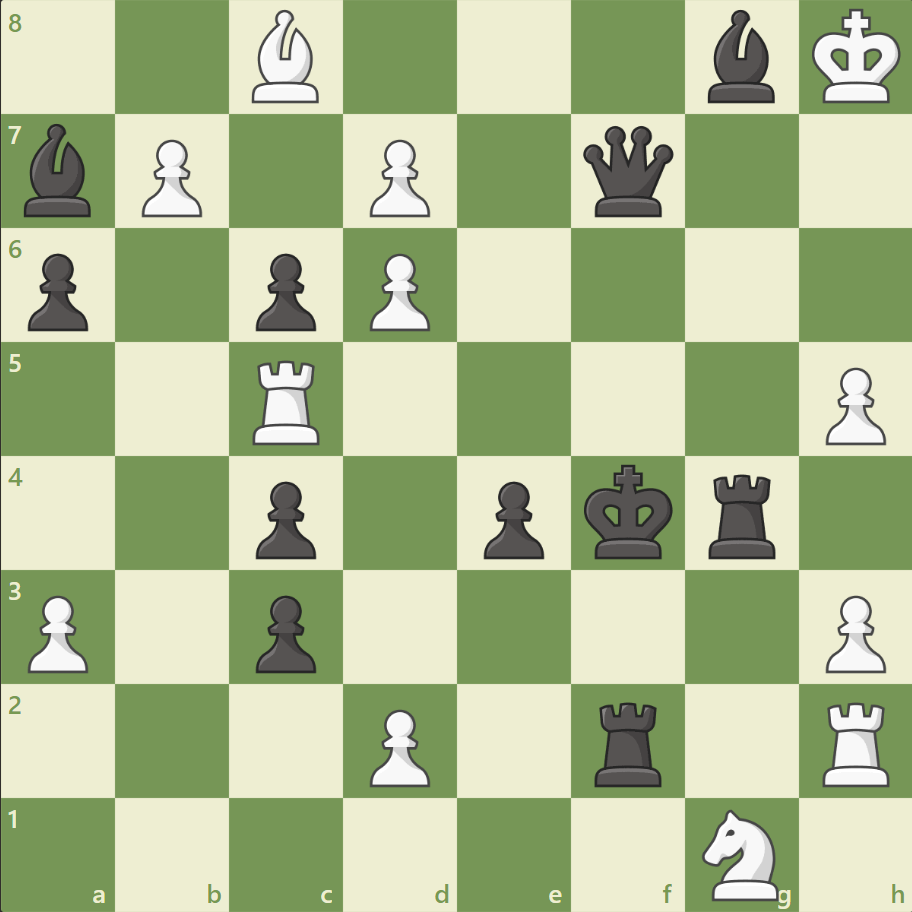B: (244, 6, 328, 109)
K: (806, 4, 906, 112)
N: (692, 802, 789, 904)
P: (133, 132, 208, 223), (20, 586, 95, 677), (361, 132, 435, 223), (361, 246, 435, 337), (815, 359, 889, 450), (815, 586, 889, 677), (361, 700, 435, 791)
R: (246, 352, 329, 449), (814, 693, 897, 790)
b: (698, 6, 782, 109), (17, 120, 101, 222)
k: (579, 458, 679, 566)
p: (20, 246, 95, 337), (247, 246, 322, 337), (247, 473, 322, 564), (474, 473, 549, 564), (247, 586, 322, 677)
q: (578, 122, 677, 222)
r: (700, 466, 783, 563), (587, 693, 670, 790)
